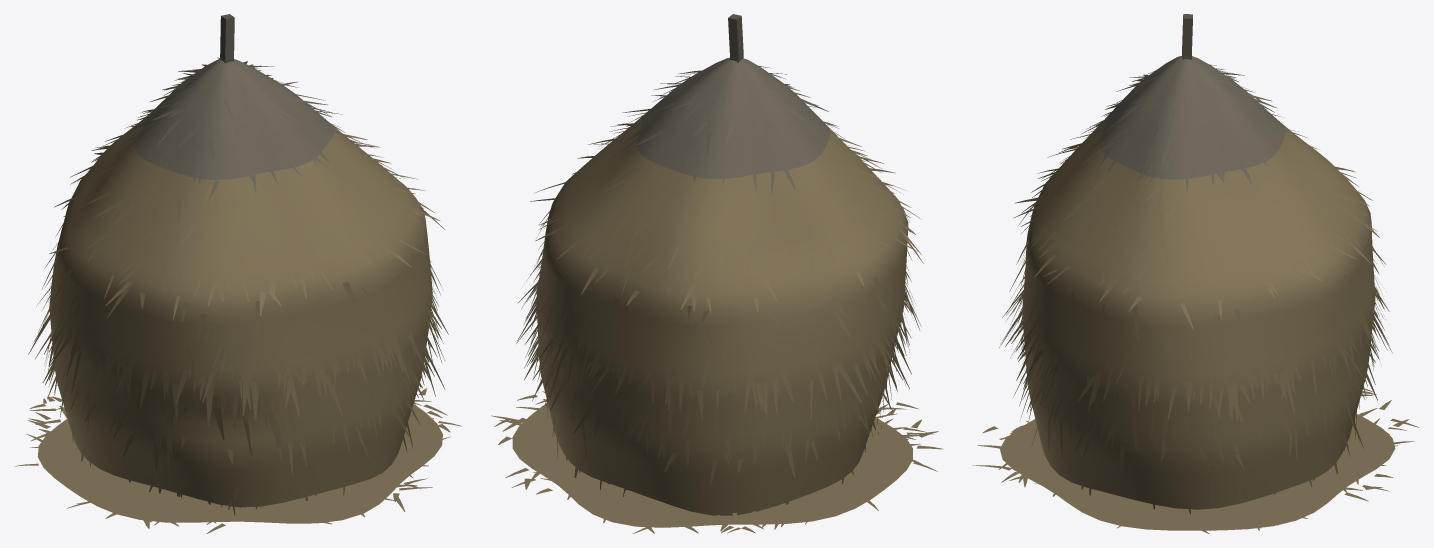
The model's file is lees_place_haystack_1812_a__lees_place_1812.glb.
3 views of the same model, side by side, from view 1: azimuth 30°, elevation 25°; view 2: azimuth 150°, elevation 25°; view 3: azimuth 270°, elevation 25° (orthographic). The views are drawn at different scales.
Parts seen in each view (by area): view 1: lees_place_haystack_1812_a__lees_place_1812; view 2: lees_place_haystack_1812_a__lees_place_1812; view 3: lees_place_haystack_1812_a__lees_place_1812.
Boxes of the visible parts, x1,y1,x2,y2 form: lees_place_haystack_1812_a__lees_place_1812: (14, 14, 462, 533); lees_place_haystack_1812_a__lees_place_1812: (491, 14, 943, 533); lees_place_haystack_1812_a__lees_place_1812: (972, 14, 1419, 533).
Size of the model in its own units: 4.61 by 5.04 by 4.68.
